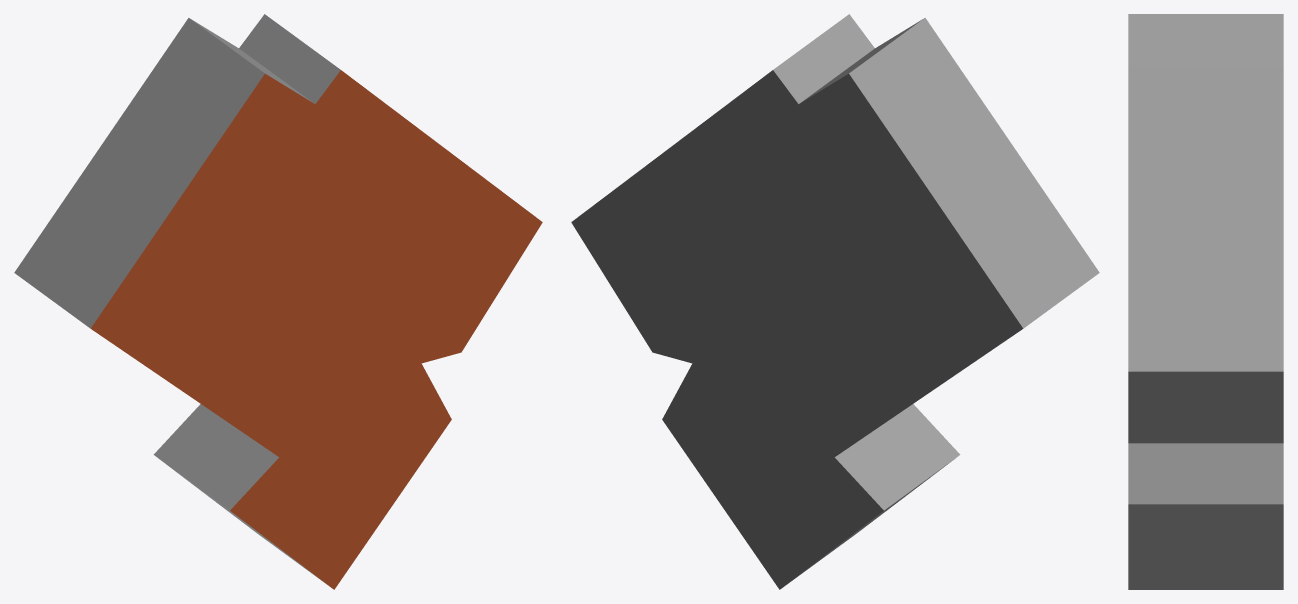
The model's file is construction_3521_assumed_A_Casa_h6m.obj.
3 views of the same model, side by side, from view 1: azimuth 30°, elevation 25°; view 2: azimuth 150°, elevation 25°; view 3: azimuth 270°, elevation 25° (orthographic).
Parts seen in each view (by area): view 1: construction_3521_assumed_A_Casa; view 2: construction_3521_assumed_A_Casa; view 3: construction_3521_assumed_A_Casa.
Part boxes in pixels (box(x1,y1,x2,y2)): construction_3521_assumed_A_Casa: box(14, 14, 542, 589); construction_3521_assumed_A_Casa: box(571, 14, 1099, 589); construction_3521_assumed_A_Casa: box(1128, 14, 1283, 589).
Bounding box in the file's own units: 20.51 × 23.11 × 6.
